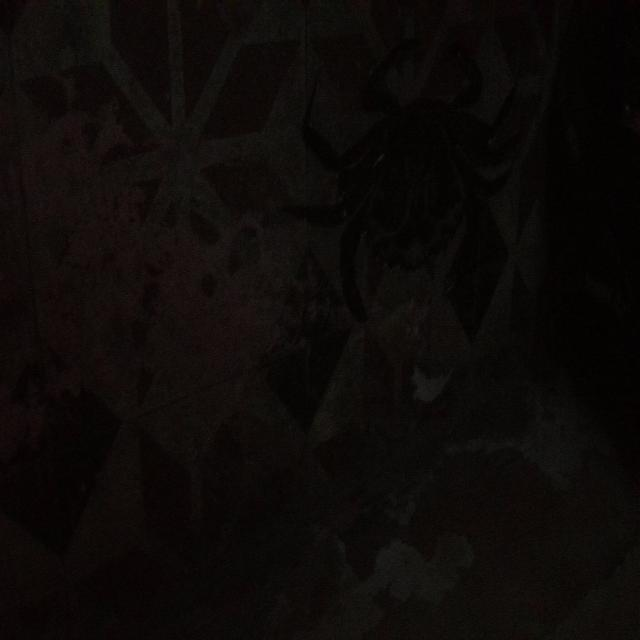European_Green_Crab: (289, 32, 539, 327)
